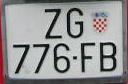-: (72, 56, 77, 60)
6: (53, 43, 70, 73)
7: (33, 44, 50, 75), (13, 44, 30, 74)
B: (100, 42, 117, 71)
F: (80, 43, 95, 73)
G: (67, 8, 83, 38)
Z: (45, 9, 62, 39)
